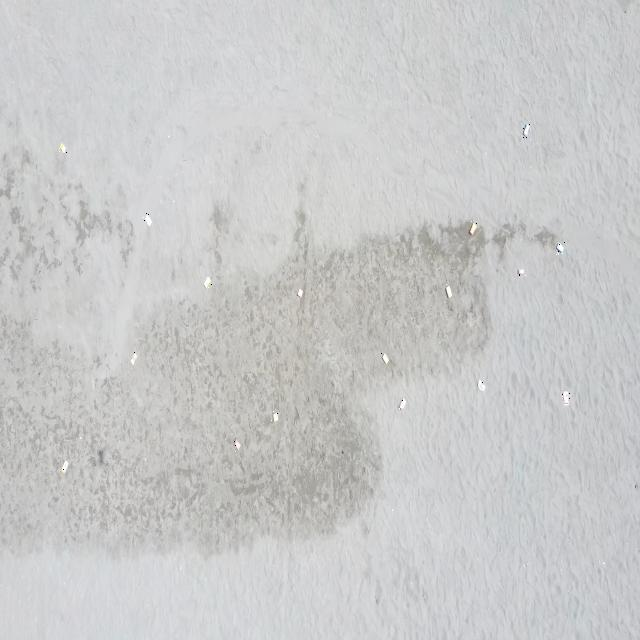retort-pouch: (445, 283, 454, 301), (398, 396, 407, 413), (143, 213, 152, 230), (470, 220, 478, 238), (523, 122, 531, 140), (562, 389, 570, 406), (381, 352, 390, 367), (556, 241, 565, 256), (61, 459, 69, 475), (271, 410, 280, 424), (478, 379, 486, 394), (204, 276, 212, 290), (234, 438, 241, 453), (130, 352, 137, 367), (59, 142, 67, 155), (516, 266, 526, 276), (295, 287, 302, 300)
